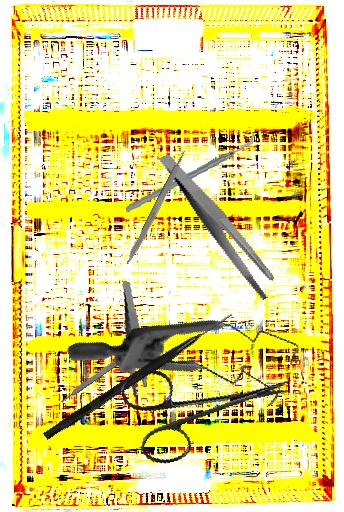Chopper: (120, 131, 262, 213)
Dressing Forceps: (158, 135, 281, 316), (107, 280, 161, 398)
Hook Surgical: (42, 308, 235, 443)
Iris Scissors: (117, 337, 304, 470)
Scalpel Handle: (124, 149, 190, 267), (58, 335, 153, 404)
Speculum: (65, 253, 317, 477)
